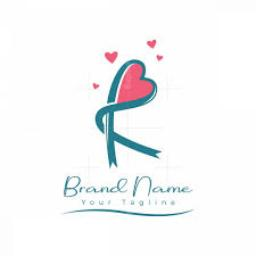b: (62, 174, 80, 198)
